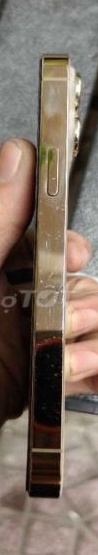scratch: (33, 77, 71, 397)
